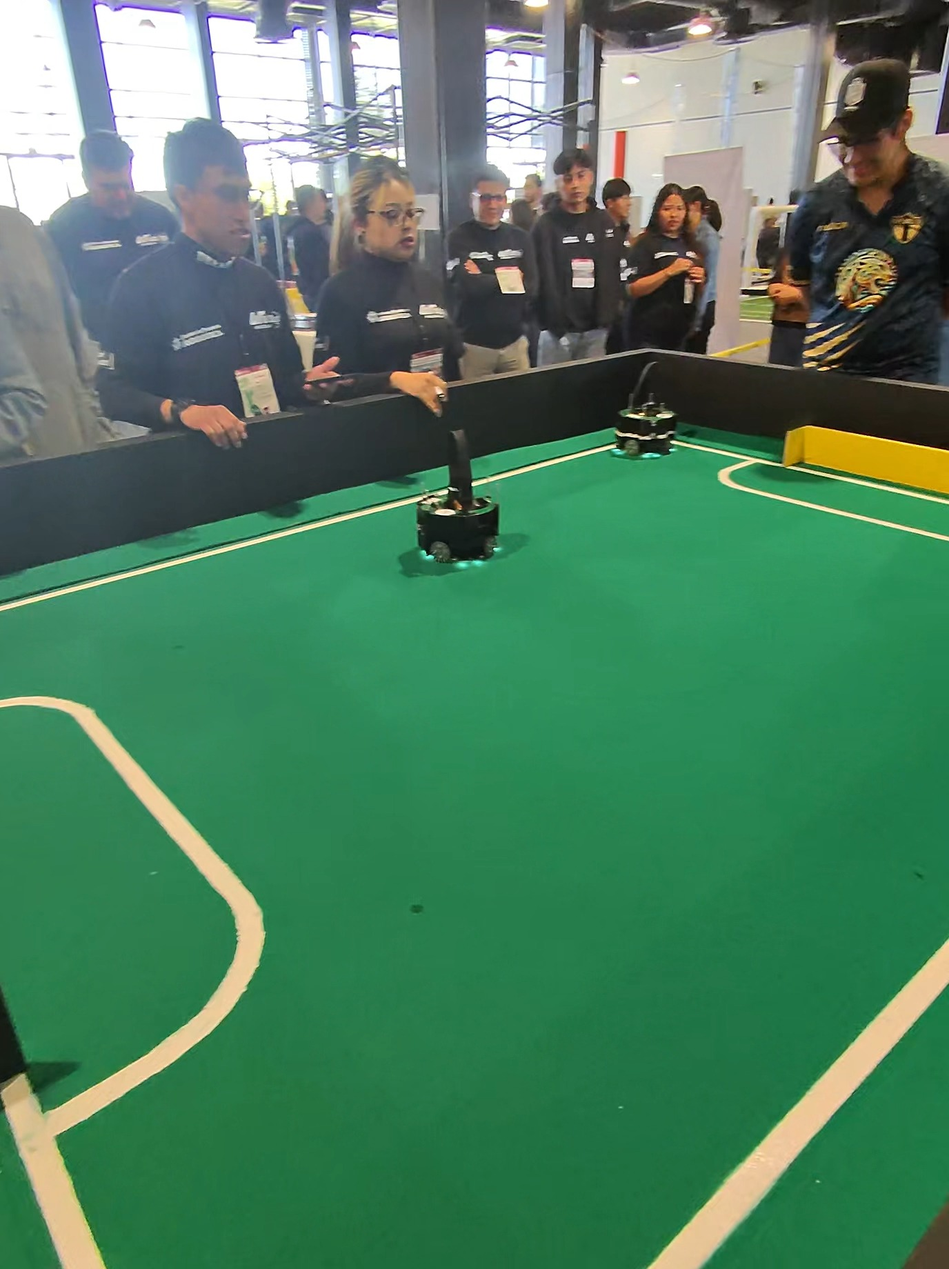Robot: (412, 414, 502, 591), (612, 350, 682, 477)
